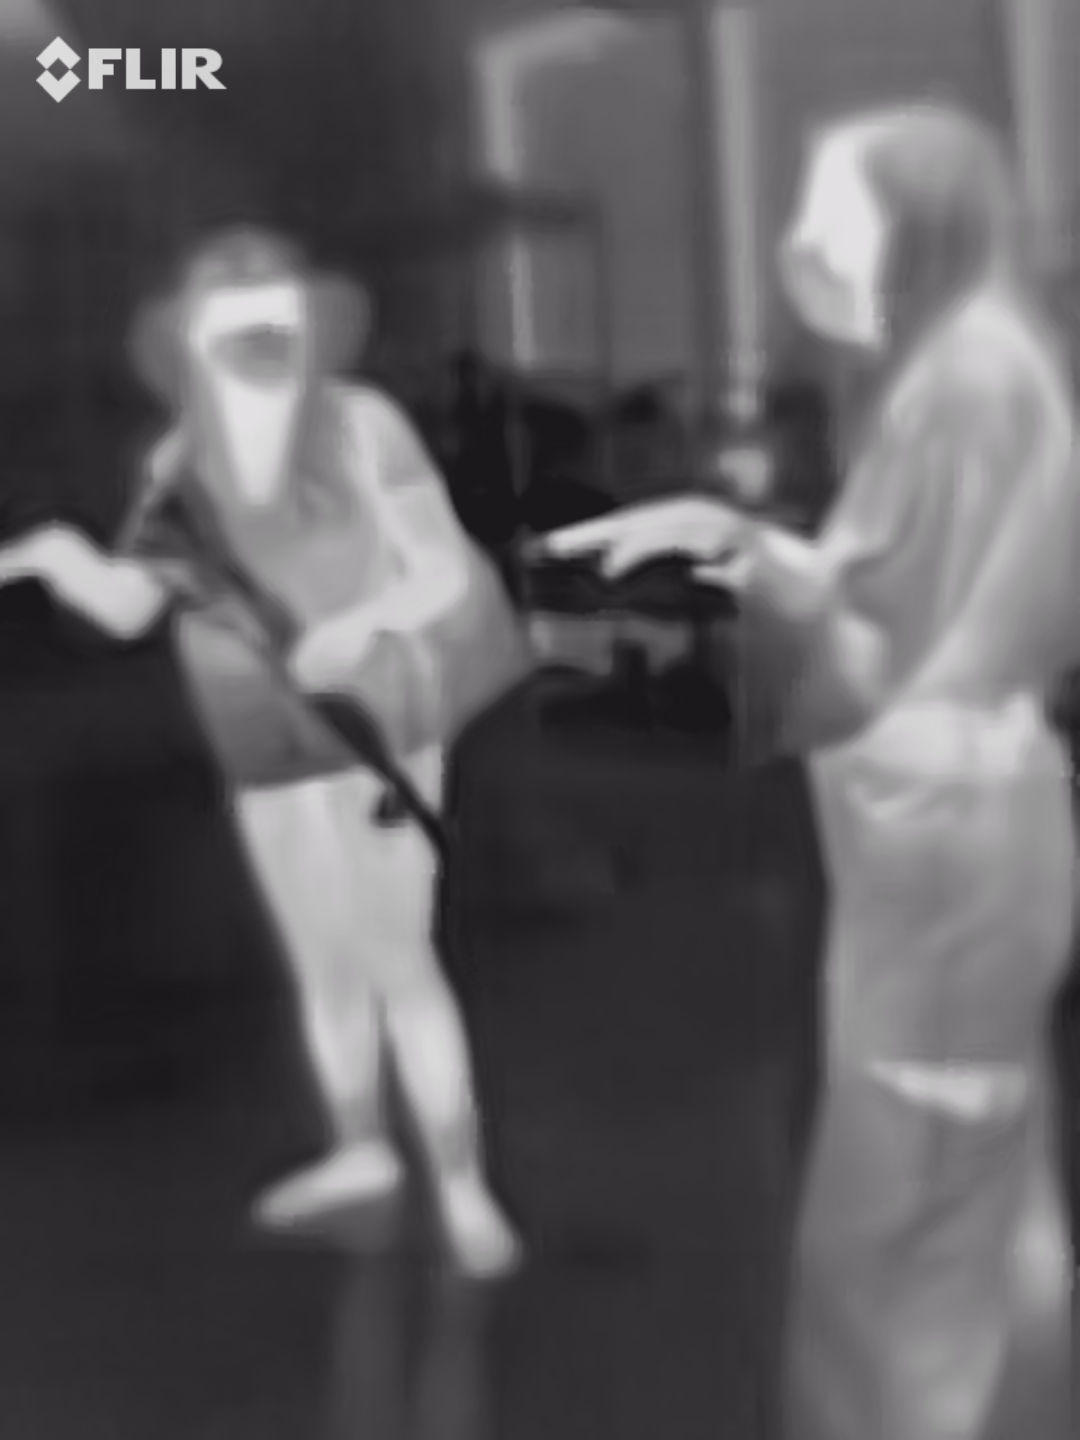head: (776, 109, 1009, 353), (177, 228, 324, 406)
